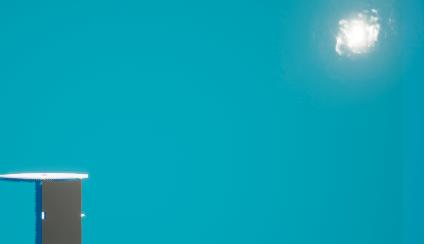boat: (0, 168, 95, 244)
drone: (44, 181, 82, 244)
land_base: (292, 0, 413, 81)
